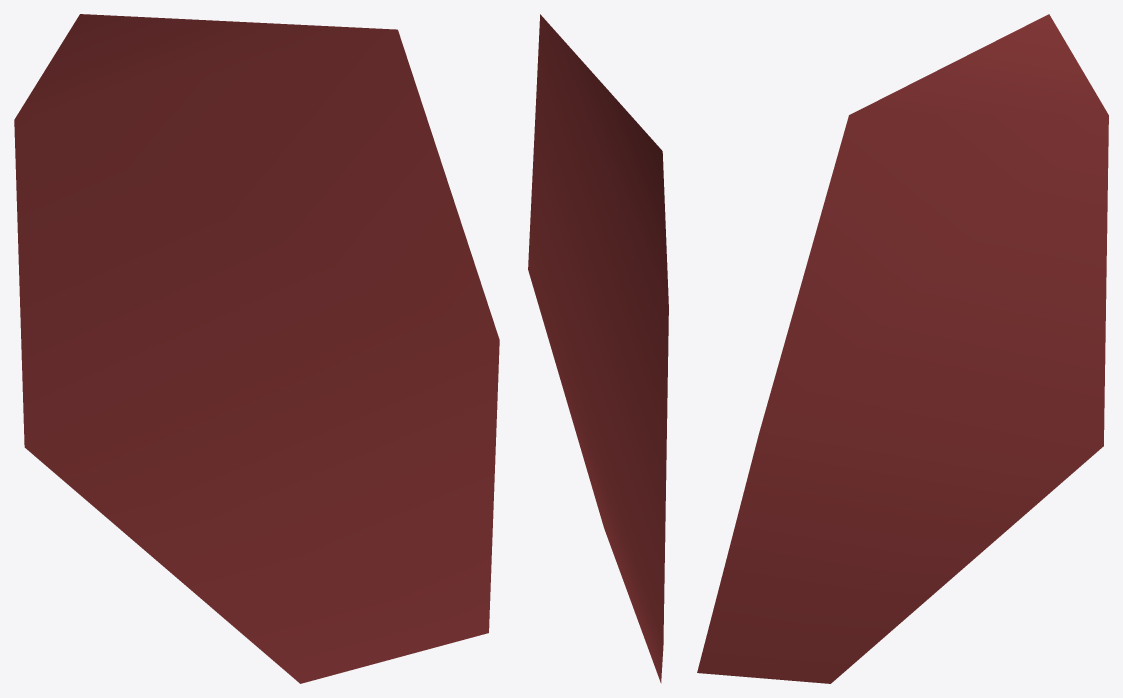
Rendered from extensor-carpi-ulnaris-er.glb.
3 views of the same model, side by side, from view 1: azimuth 30°, elevation 25°; view 2: azimuth 150°, elevation 25°; view 3: azimuth 270°, elevation 25° (orthographic). The views are drawn at different scales.
Visible parts, largest first — view 1: Extensor carpi ulnaris.er; view 2: Extensor carpi ulnaris.er; view 3: Extensor carpi ulnaris.er.
Part boxes in pixels (bbox=[...]): Extensor carpi ulnaris.er: bbox=[14, 14, 499, 683]; Extensor carpi ulnaris.er: bbox=[528, 14, 668, 683]; Extensor carpi ulnaris.er: bbox=[697, 14, 1108, 683].
Size of the model in its own units: 0.00438 by 0.0084 by 0.00505.
